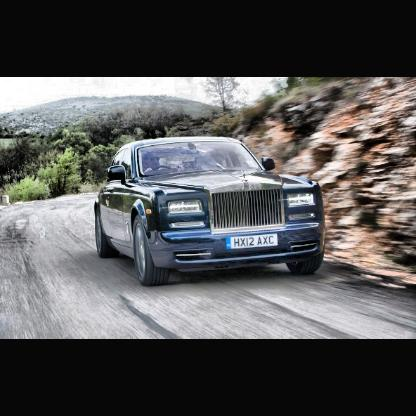Rolls-Royce Phantom Sedan 2012: (96, 137, 326, 287)
